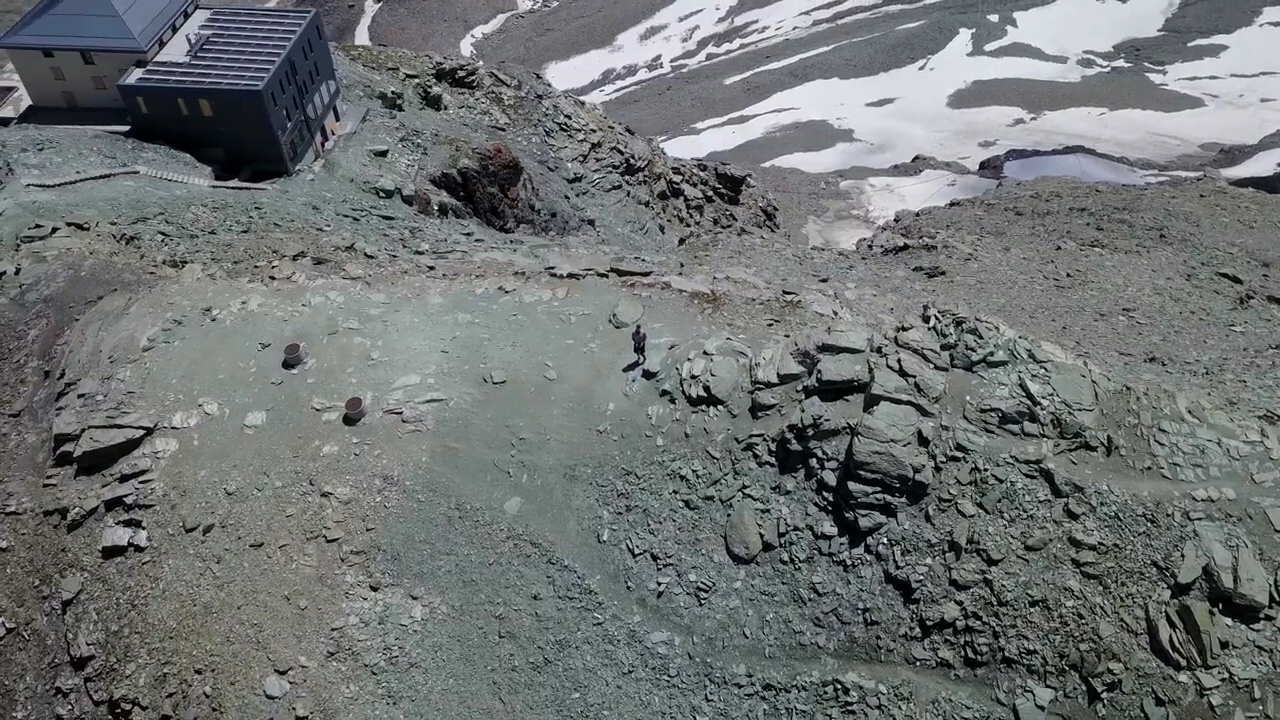insan: (630, 322, 649, 365)
